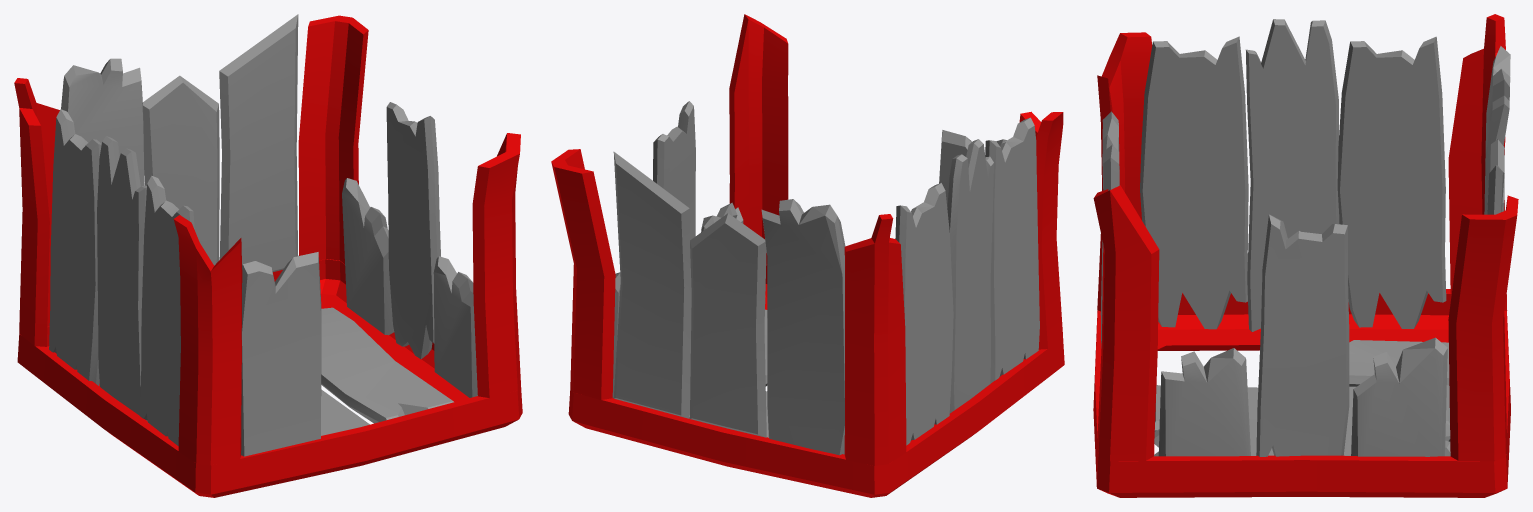
Rendered from MESH_Props_BrokenWoodBox_01.fbx.
3 views of the same model, side by side, from view 1: azimuth 30°, elevation 25°; view 2: azimuth 150°, elevation 25°; view 3: azimuth 270°, elevation 25° (orthographic). The views are drawn at different scales.
Visible parts, largest first — view 1: MESH_Props_BrokenWoodBox_01; view 2: MESH_Props_BrokenWoodBox_01; view 3: MESH_Props_BrokenWoodBox_01.
Boxes of the visible parts, x1,y1,x2,y2 form: MESH_Props_BrokenWoodBox_01: (14, 14, 522, 497); MESH_Props_BrokenWoodBox_01: (551, 14, 1064, 497); MESH_Props_BrokenWoodBox_01: (1093, 14, 1518, 497).
Bounding box in the file's own units: 1.56 × 1.27 × 1.53.
